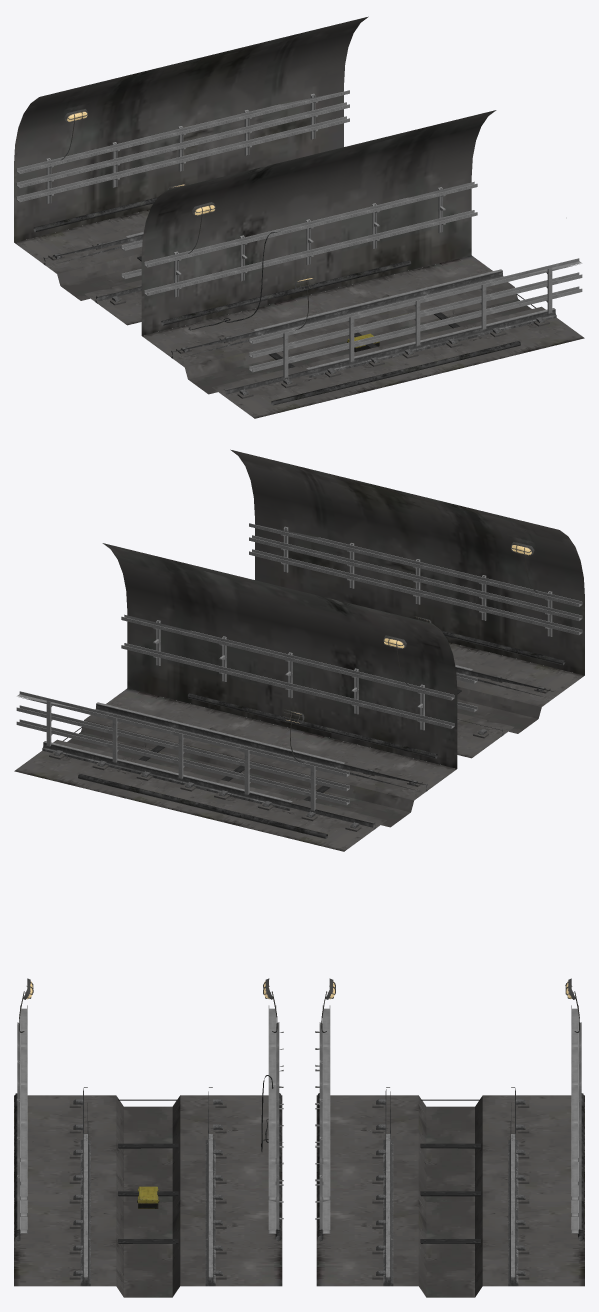
File: tunnel.glb
The picture shows the model from 3 angles, top to bottom: view 1: azimuth 30°, elevation 25°; view 2: azimuth 150°, elevation 25°; view 3: azimuth 270°, elevation 25°; orthographic projection. The views are drawn at different scales.
Visible parts, largest first — view 1: TunelModular_LP.001_ParedTunel_0.002, SueloViasTunel_LP.002_SueloVias_0.002, PortaCables_LP_SujeccionesCables_0.002, SueloViasTunel_LP.003_SueloVias_0.001, Vias_LP_Vias_0.001, PortaCables_LP.001_SujeccionesCables_0.001, TuberiaViaDetallada_LP.001_TuberiaViaDetallada_0.002, BaseLuzCorta_LP_LuzTunelCorta_0.001, CableLateralViasBarra_LP.001_CableTexturePack_0.002; view 2: TunelModular_LP.001_ParedTunel_0.002, SueloViasTunel_LP.002_SueloVias_0.002, PortaCables_LP_SujeccionesCables_0.002, SueloViasTunel_LP.003_SueloVias_0.001, Vias_LP_Vias_0.001, PortaCables_LP.001_SujeccionesCables_0.001, TuberiaViaDetallada_LP.001_TuberiaViaDetallada_0.002, BaseLuzCorta_LP_LuzTunelCorta_0.001; view 3: SueloViasTunel_LP.003_SueloVias_0.001, SueloViasTunel_LP.002_SueloVias_0.002, Vias_LP_Vias_0.001, PortaCables_LP.001_SujeccionesCables_0.001, PortaCables_LP_SujeccionesCables_0.002, CableLateralViasBarra_LP.001_CableTexturePack_0.002, TuberiaViaDetallada_LP.001_TuberiaViaDetallada_0.002, BaseLuzCorta_LP_LuzTunelCorta_0.001.
Part boxes in pixels (x1,y1,x2,y2): TunelModular_LP.001_ParedTunel_0.002: (14, 16, 496, 335); SueloViasTunel_LP.002_SueloVias_0.002: (14, 209, 419, 418); PortaCables_LP_SujeccionesCables_0.002: (16, 90, 582, 377); SueloViasTunel_LP.003_SueloVias_0.001: (307, 255, 584, 378); Vias_LP_Vias_0.001: (43, 232, 556, 398); PortaCables_LP.001_SujeccionesCables_0.001: (121, 181, 477, 297); TuberiaViaDetallada_LP.001_TuberiaViaDetallada_0.002: (33, 197, 520, 405); BaseLuzCorta_LP_LuzTunelCorta_0.001: (60, 109, 315, 330); CableLateralViasBarra_LP.001_CableTexturePack_0.002: (137, 231, 535, 368); TunelModular_LP.001_ParedTunel_0.002: (102, 449, 584, 768); SueloViasTunel_LP.002_SueloVias_0.002: (179, 642, 584, 851); PortaCables_LP_SujeccionesCables_0.002: (16, 523, 582, 810); SueloViasTunel_LP.003_SueloVias_0.001: (14, 688, 291, 811); Vias_LP_Vias_0.001: (42, 665, 555, 831); PortaCables_LP.001_SujeccionesCables_0.001: (121, 614, 477, 730); TuberiaViaDetallada_LP.001_TuberiaViaDetallada_0.002: (78, 630, 565, 838); BaseLuzCorta_LP_LuzTunelCorta_0.001: (256, 486, 538, 763); SueloViasTunel_LP.003_SueloVias_0.001: (14, 1190, 584, 1297); SueloViasTunel_LP.002_SueloVias_0.002: (14, 1095, 584, 1201); Vias_LP_Vias_0.001: (69, 1087, 529, 1286); PortaCables_LP.001_SujeccionesCables_0.001: (268, 1005, 330, 1233); PortaCables_LP_SujeccionesCables_0.002: (17, 1005, 581, 1233); CableLateralViasBarra_LP.001_CableTexturePack_0.002: (118, 1075, 480, 1243); TuberiaViaDetallada_LP.001_TuberiaViaDetallada_0.002: (15, 1093, 583, 1241); BaseLuzCorta_LP_LuzTunelCorta_0.001: (19, 978, 579, 1150).
Size of the model in its own units: 10 by 5.53 by 12.64.
Materials: 10 (10 with a texture image).
